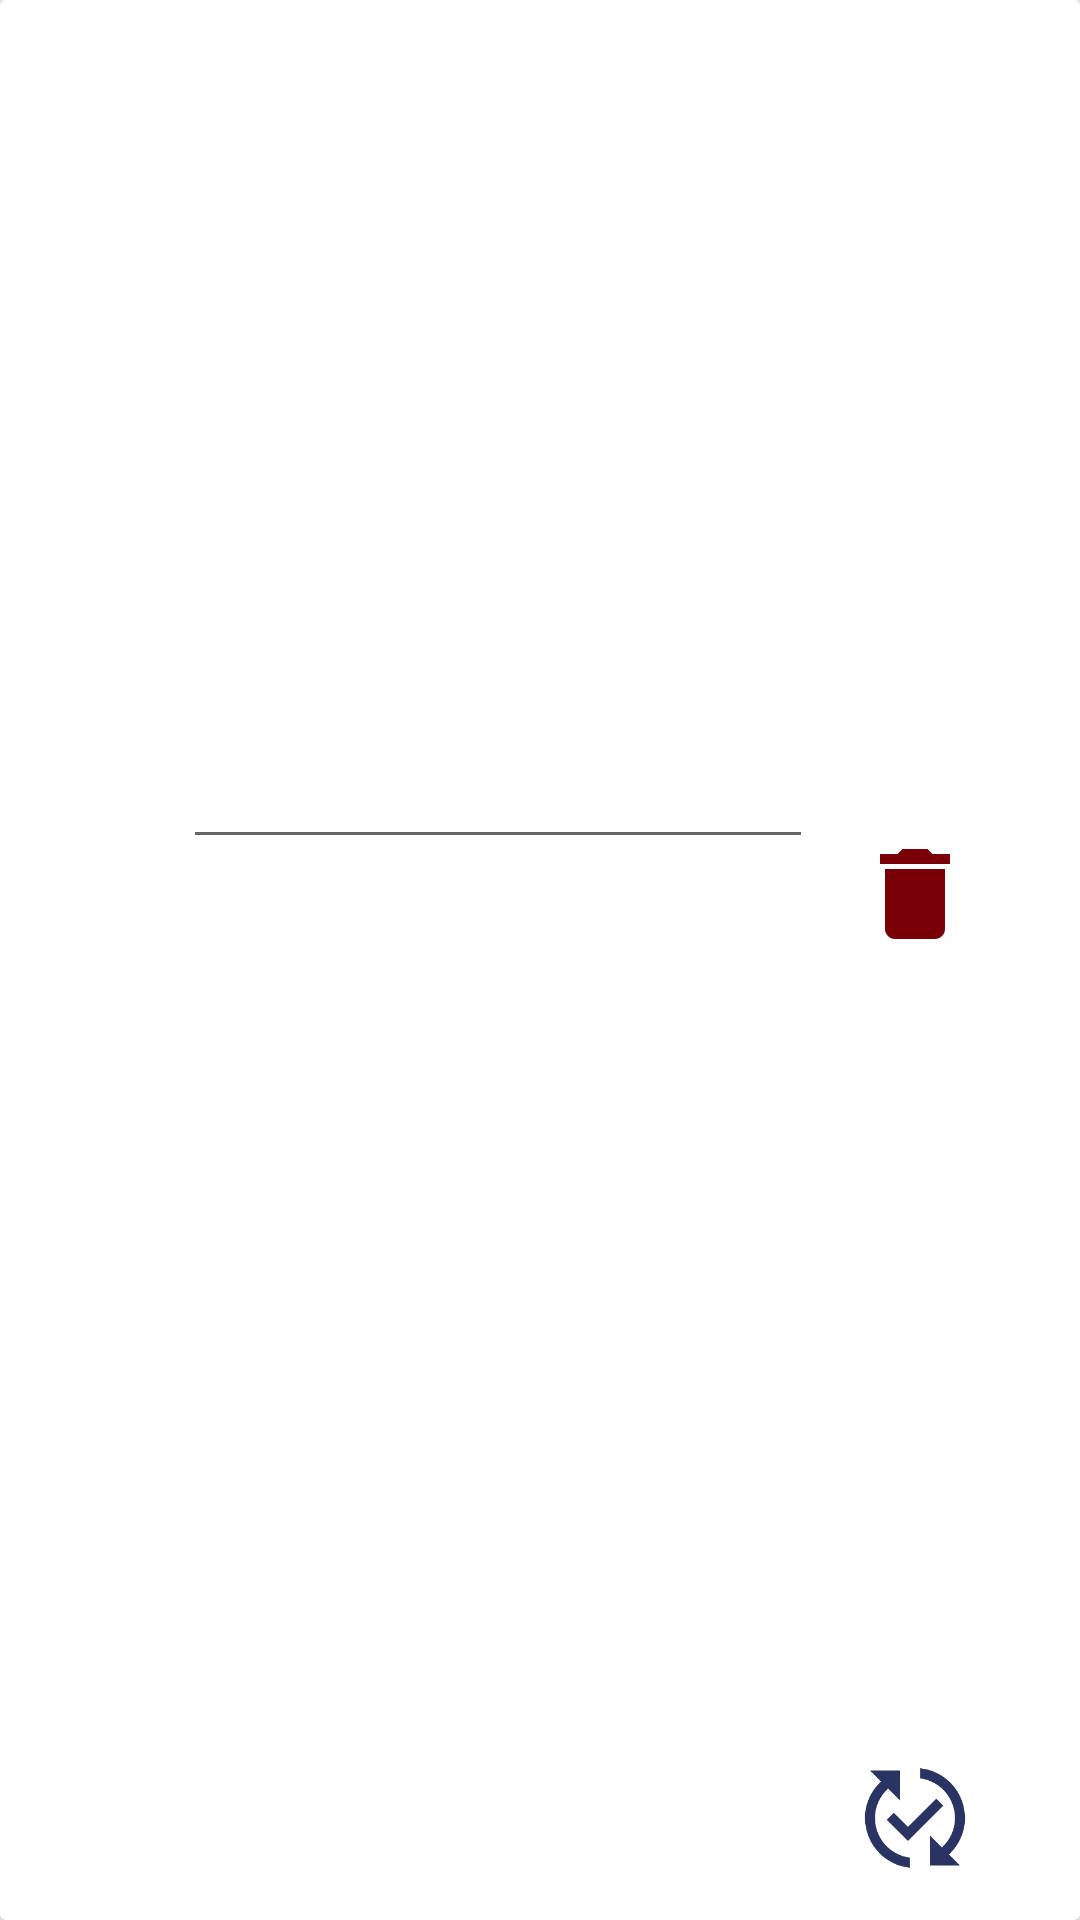

Point at icon controls on the screen. Image size 1080px×1920px, points as (x=x, y=y).
delete: (x=915, y=894)
update: (x=915, y=1818)
